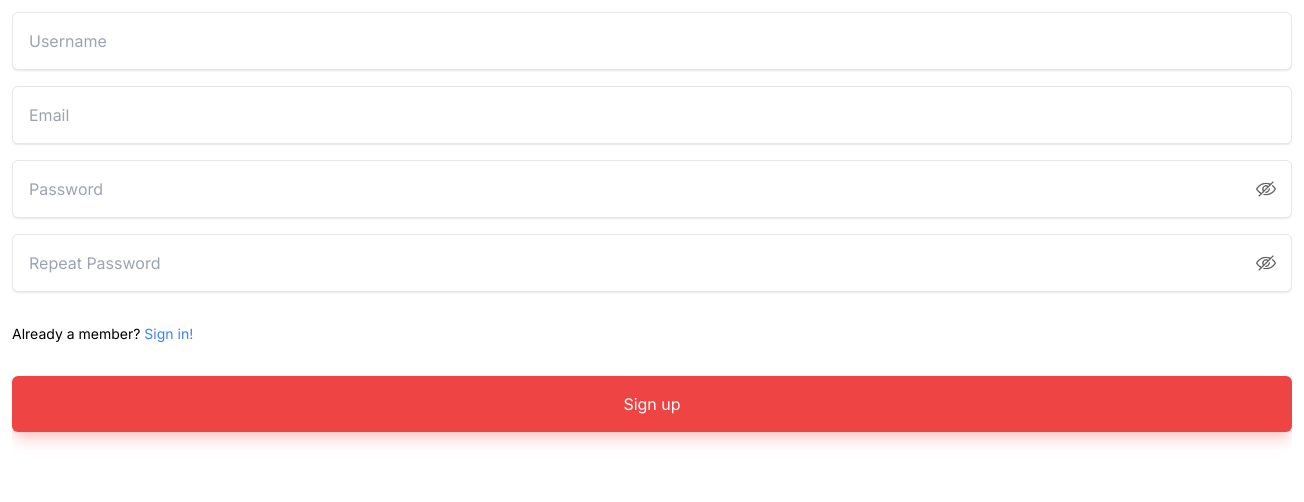
<SignupForm /> › 3. Displays error message for password input when invalid password is entered
The width and height of the screenshot is (1304, 502).
Type "testuser" into the field with test id "InputField.Input" showing "Username" at (652, 41), box [12,12,1292,70]
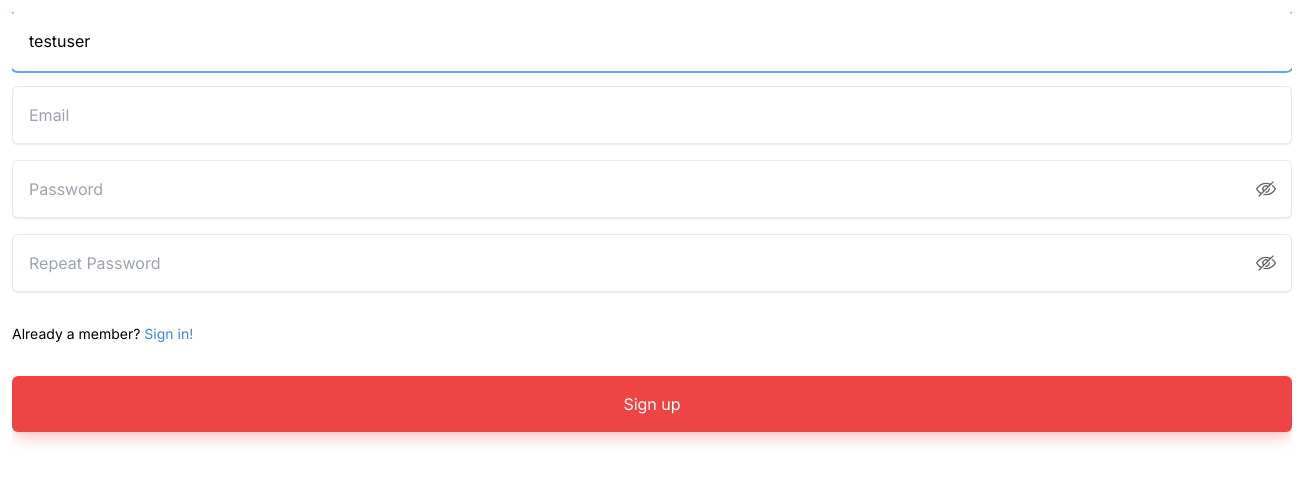
Type "test@example.com" into the field with test id "InputField.Input" showing "Email" at (652, 115), box [12,86,1292,144]
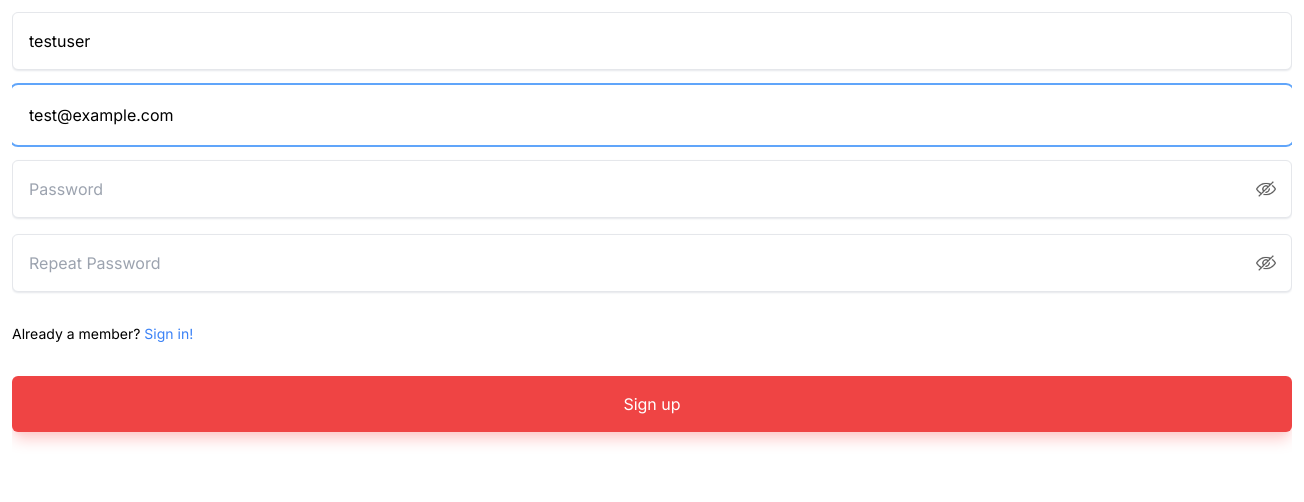
Type "password" into the password field with test id "PasswordInput.Input" showing "Password" at (652, 189), box [12,160,1292,218]
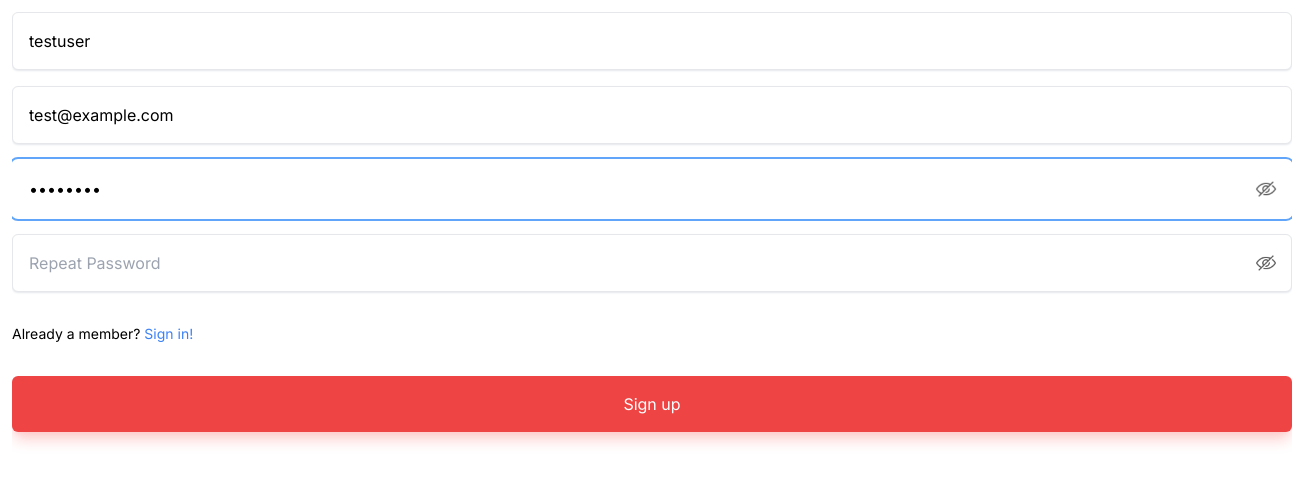
Type "password" into the password field with test id "PasswordInput.Input" showing "Repeat Password" at (652, 263), box [12,234,1292,292]
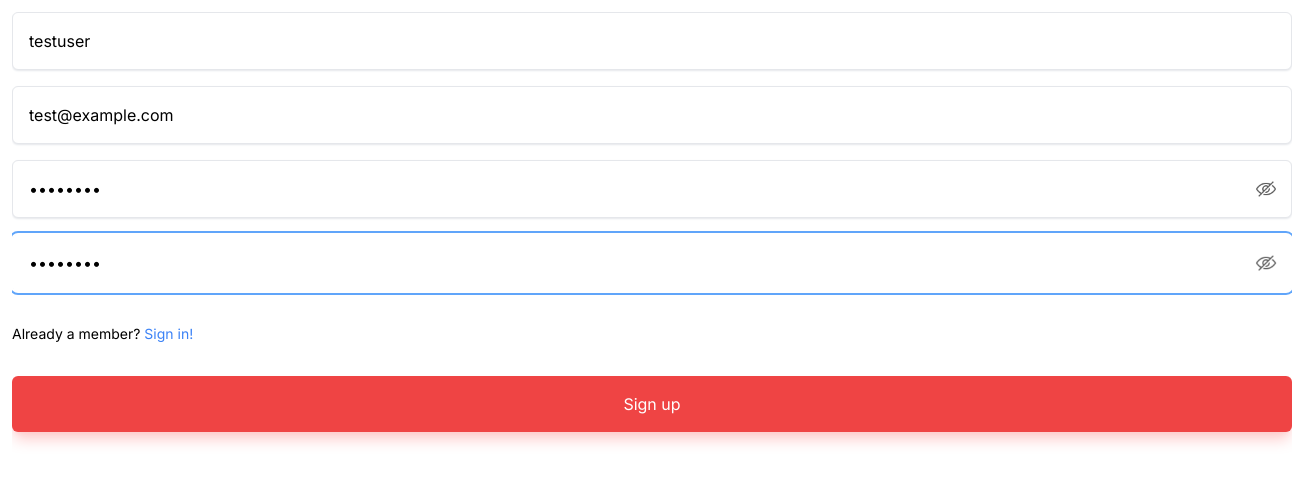
Click the button with test id "SubmittingButton" at (652, 404), box [12,376,1292,432]
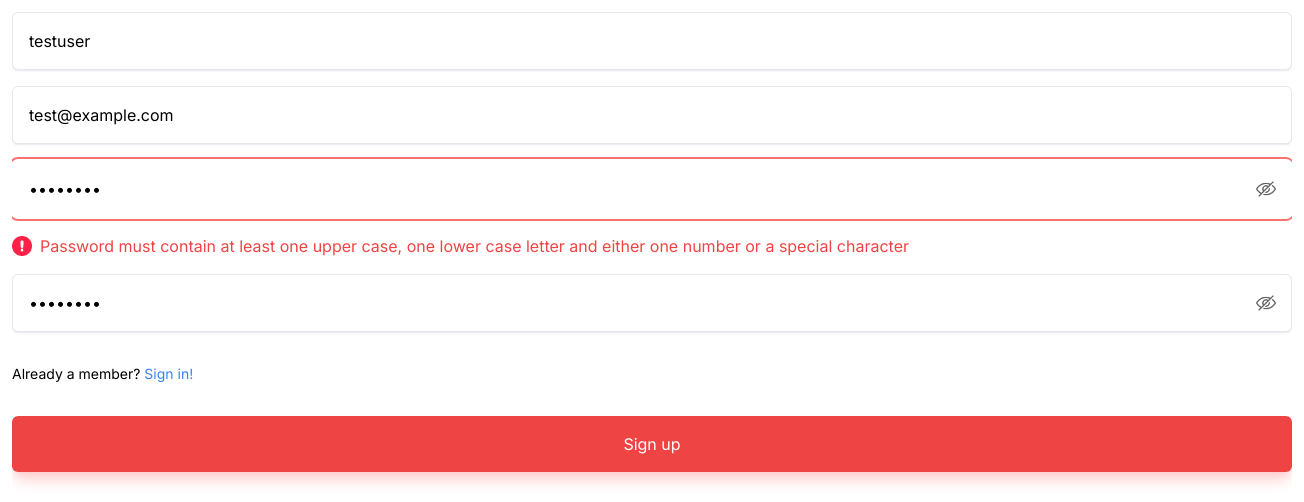
Now the text with test id "ErrorMessageComponent.Message" shows "Password must contain at least one upper case, one lower case letter and either one number or a special character", box [40,236,909,256]
